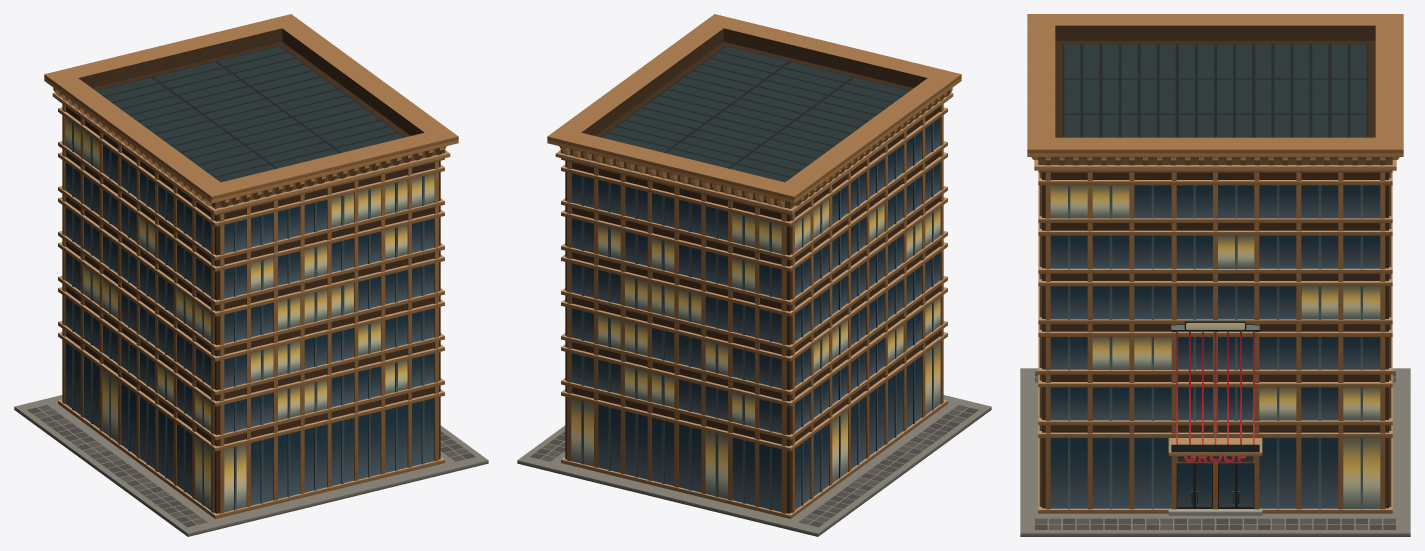
Rendered from Building_13D.fbx.
3 renders of one model, left to right at view 1: azimuth 30°, elevation 25°; view 2: azimuth 150°, elevation 25°; view 3: azimuth 270°, elevation 25°, orthographic. The views are drawn at different scales.
Visible parts, largest first — view 1: Building_13D, Window_Lights_13D; view 2: Building_13D, Window_Lights_13D; view 3: Building_13D, Window_Lights_13D.
Boxes of the visible parts, box(x1,y1,x2,y2) form: Building_13D: box(14, 14, 488, 536); Window_Lights_13D: box(65, 117, 434, 512); Building_13D: box(517, 14, 991, 536); Window_Lights_13D: box(571, 199, 940, 499); Building_13D: box(1020, 14, 1410, 536); Window_Lights_13D: box(1050, 185, 1380, 508).
Size of the model in its own units: 28 by 29.5 by 28.
